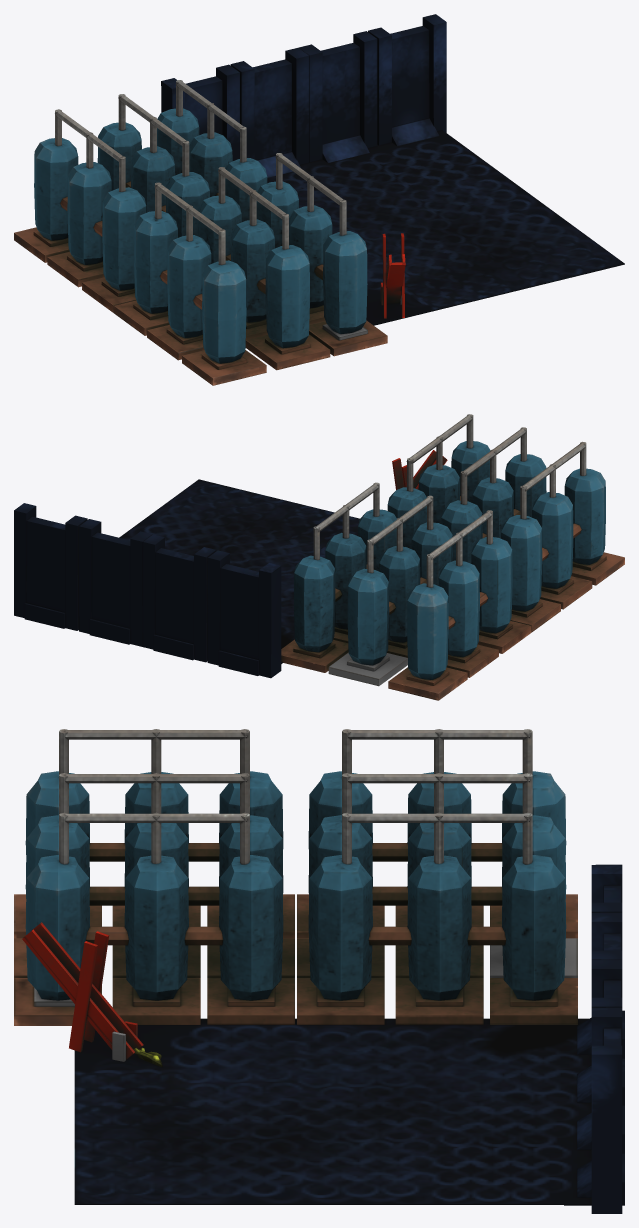
Rendered from map3.glb.
The picture shows the model from 3 angles, top to bottom: view 1: azimuth 30°, elevation 25°; view 2: azimuth 150°, elevation 25°; view 3: azimuth 270°, elevation 25°; orthographic projection. The views are drawn at different scales.
Parts seen in each view (by area): view 1: Map3; view 2: Map3; view 3: Map3.
Part boxes in pixels (left/top/right/bottom): Map3: left=14, top=14, right=624, bottom=385; Map3: left=14, top=414, right=624, bottom=700; Map3: left=14, top=729, right=624, bottom=1213.
Size of the model in its own units: 712 by 219 by 607.
1 material, 1 textured.
